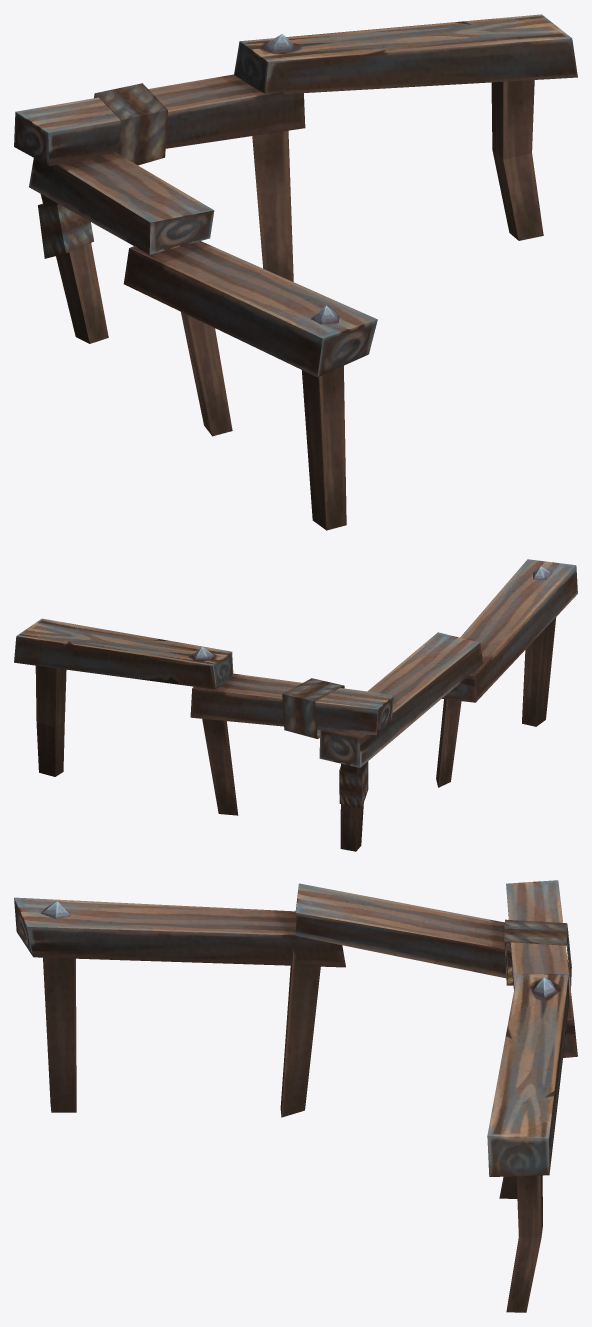
Rendered from mine_railing01.fbx.
3 views of the same model, one above another, from view 1: azimuth 30°, elevation 25°; view 2: azimuth 150°, elevation 25°; view 3: azimuth 270°, elevation 25° (orthographic). The views are drawn at different scales.
Visible parts, largest first — view 1: obj0.038; view 2: obj0.038; view 3: obj0.038.
Part boxes in pixels (x1,y1,x2,y2): obj0.038: [14, 14, 577, 530]; obj0.038: [14, 559, 577, 851]; obj0.038: [14, 880, 577, 1312].
Bounding box in the file's own units: 4.29 × 1.87 × 4.21.
